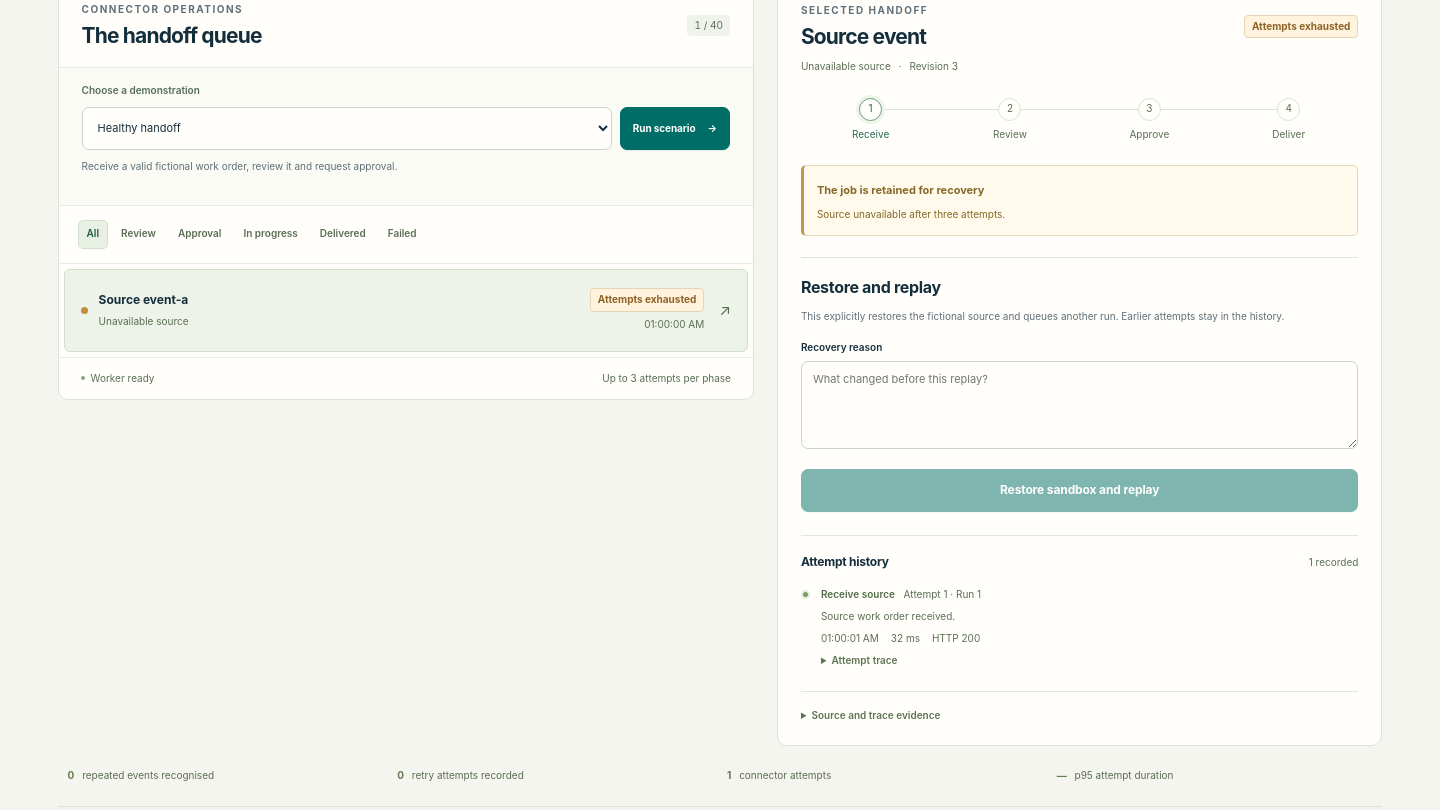
Test: Team edition commands and evidence › restores a failed source only with an explicit reason and retains the revision
(page scrolled)
Type "Restored the fictional source for another run." into the text box labelled "Recovery reason" at (1080, 405), box [801,361,1358,449]
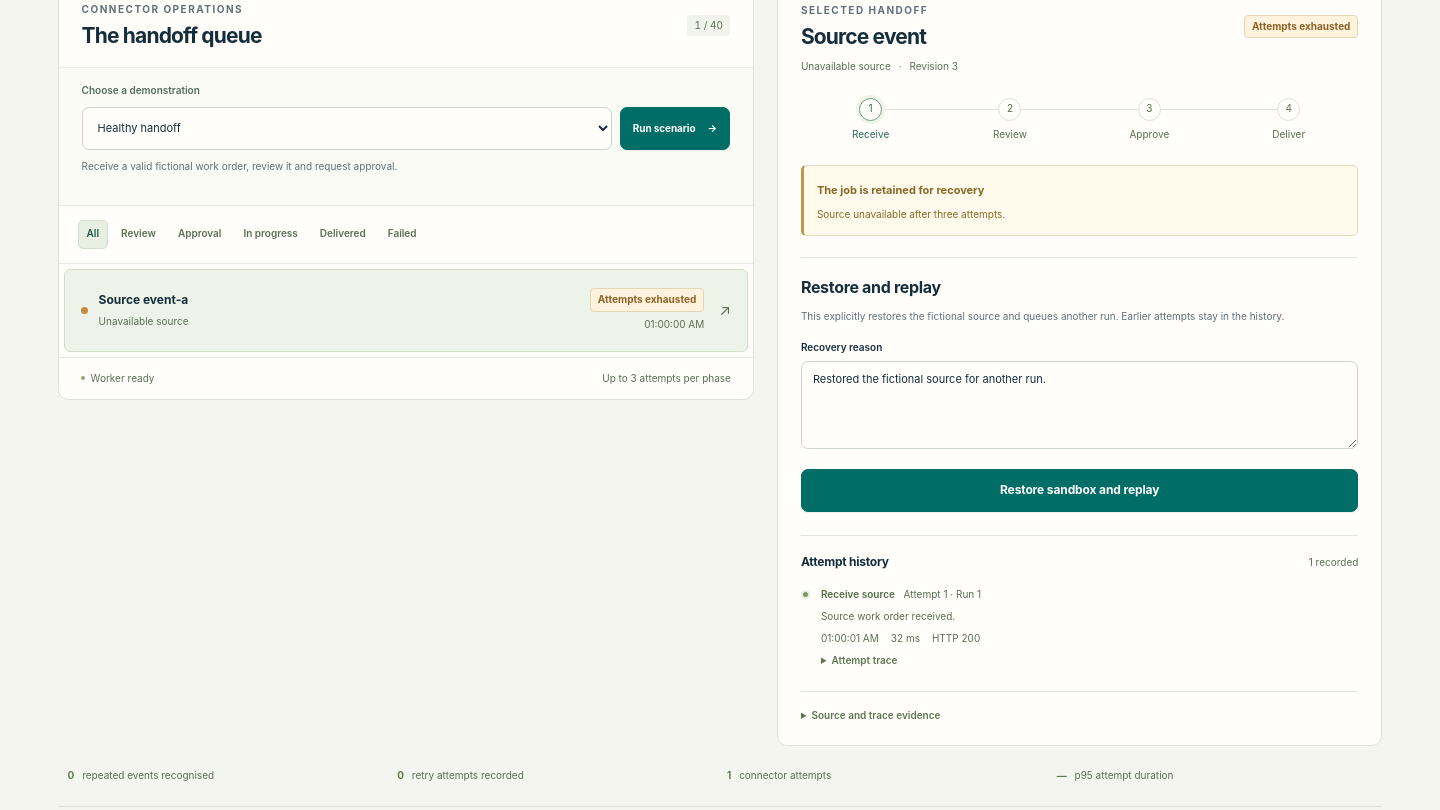
Click the button "Restore sandbox and replay" at (1080, 490), box [801,469,1358,512]
(page scrolled)
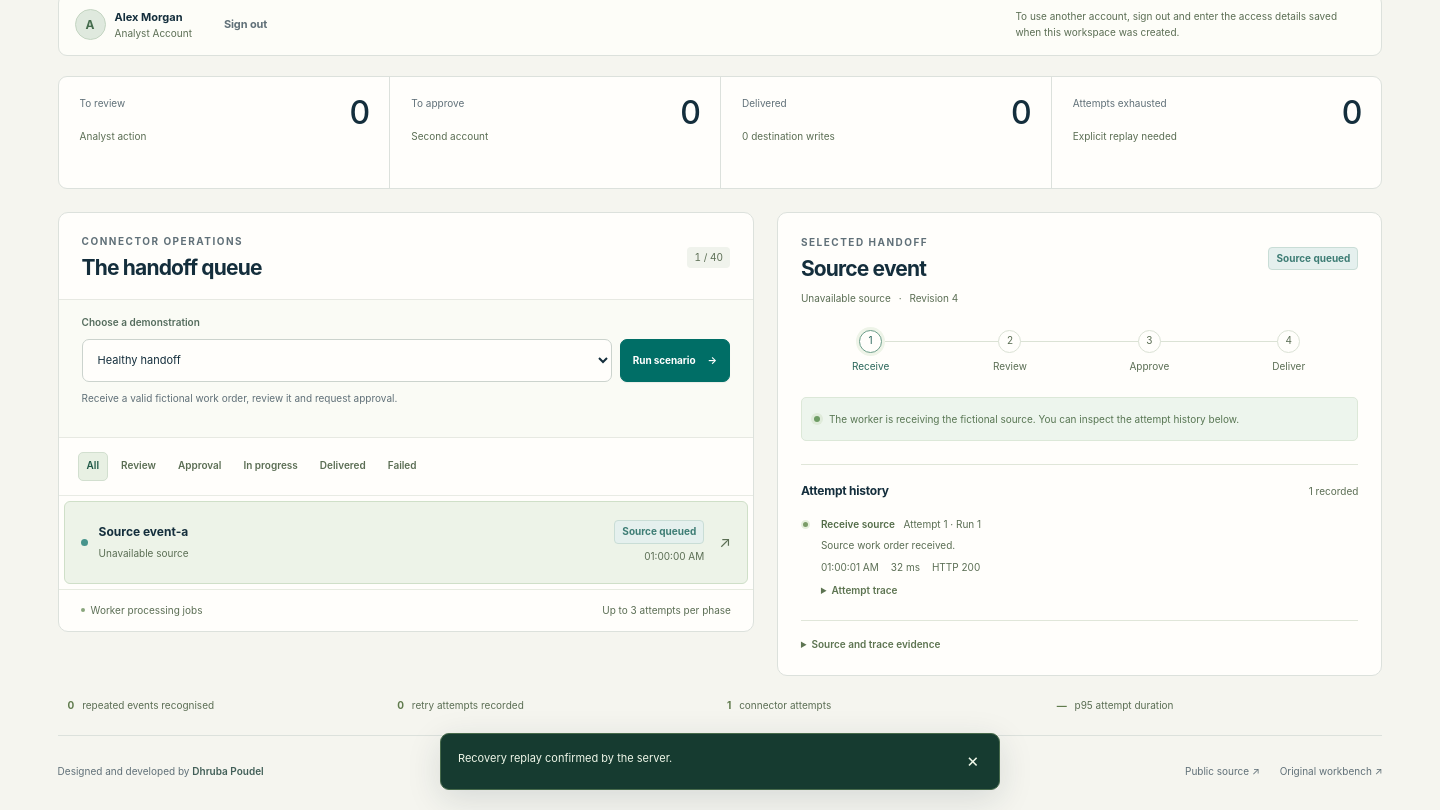
Check: the text "worker is receiving" is shown, box [829,413,1036,425]
